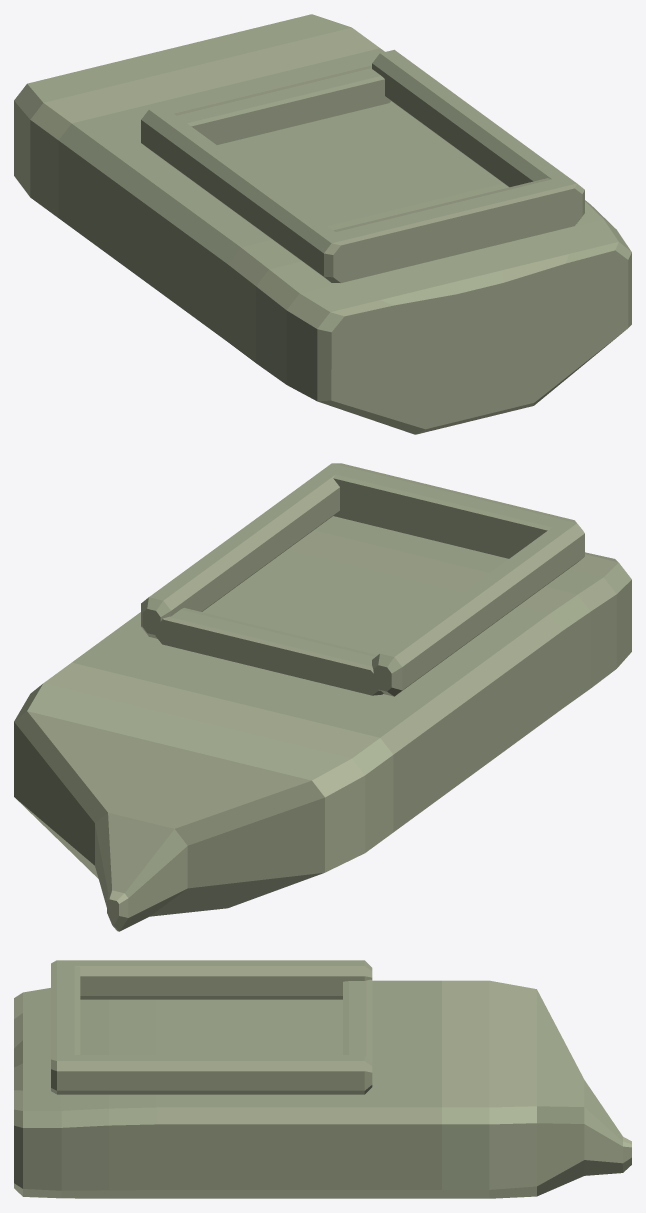
The model's file is hartmann_transport_a.glb.
3 views of the same model, one above another, from view 1: azimuth 30°, elevation 25°; view 2: azimuth 150°, elevation 25°; view 3: azimuth 270°, elevation 25° (orthographic). The views are drawn at different scales.
Parts seen in each view (by area): view 1: hartmann_transport_a; view 2: hartmann_transport_a; view 3: hartmann_transport_a.
Part boxes in pixels (bbox=[...]): hartmann_transport_a: bbox=[14, 14, 631, 434]; hartmann_transport_a: bbox=[14, 463, 631, 931]; hartmann_transport_a: bbox=[14, 960, 631, 1198].
Size of the model in its own units: 3.9 by 2.14 by 7.4.
